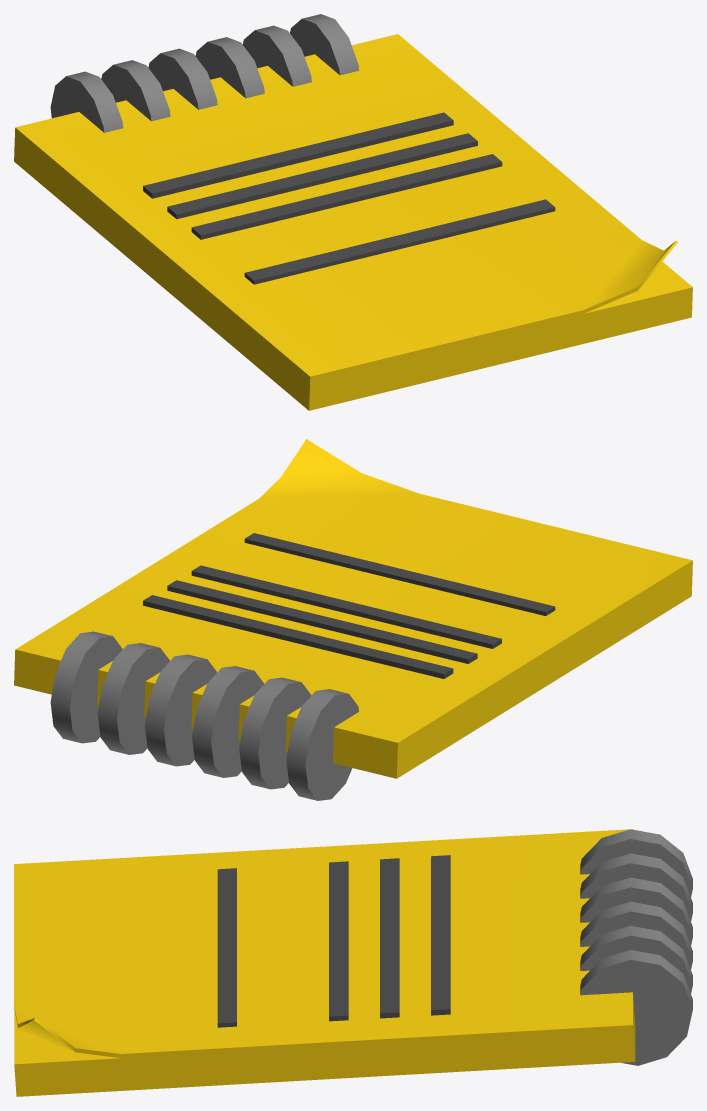
Rendered from notepad.fbx.
3 renders of one model, top to bottom at view 1: azimuth 30°, elevation 25°; view 2: azimuth 150°, elevation 25°; view 3: azimuth 270°, elevation 25°, orthographic. The views are drawn at different scales.
Visible parts, largest first — view 1: notepad; view 2: notepad; view 3: notepad.
Boxes of the visible parts, box(x1,y1,x2,y2) form: notepad: box(14, 14, 692, 410); notepad: box(14, 439, 692, 800); notepad: box(14, 829, 692, 1096).
Bounding box in the file's own units: 12.14 × 3.07 × 17.77.
